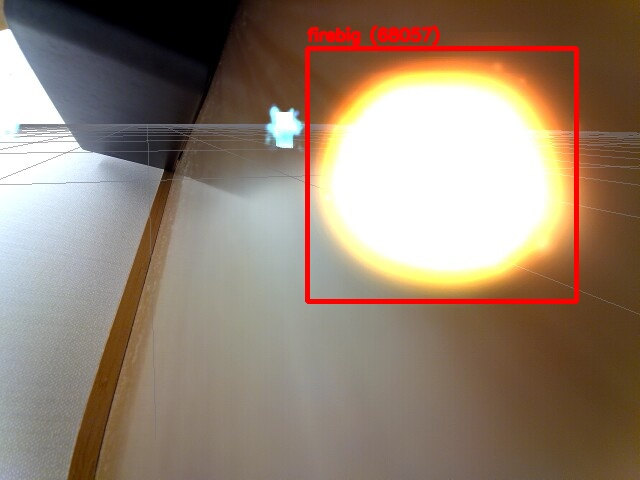firebig: (307, 48, 576, 301)
